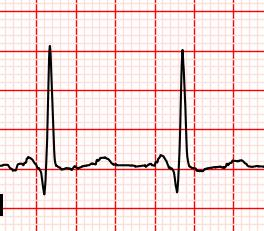Pathological Q Wave: (26, 152, 54, 197), (164, 156, 185, 195)
